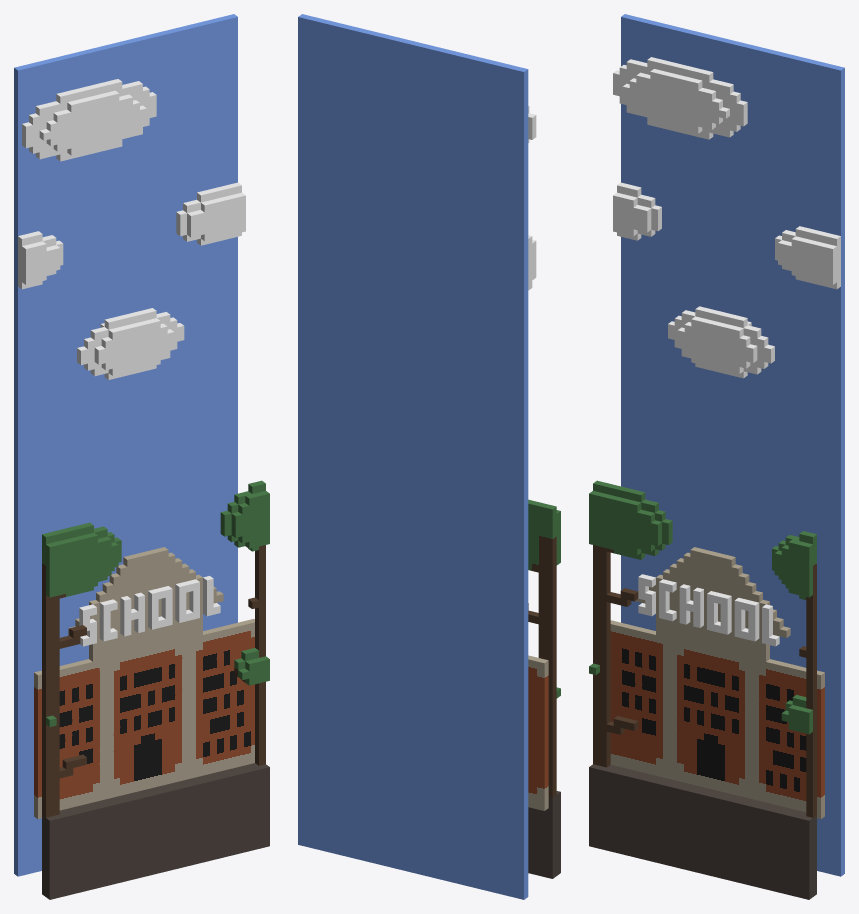
Rendered from scene_school.glb.
3 renders of one model, left to right at view 1: azimuth 30°, elevation 25°; view 2: azimuth 150°, elevation 25°; view 3: azimuth 330°, elevation 25°, orthographic. The views are drawn at different scales.
Visible parts, largest first — view 1: scene_school_43, scene_school_42, scene_school_41, scene_school_40; view 2: scene_school_43, scene_school_41, scene_school_42, scene_school_40; view 3: scene_school_43, scene_school_42, scene_school_41, scene_school_40.
Boxes of the visible parts, x1,y1,x2,y2 form: scene_school_43: (14,14,237,876); scene_school_42: (34,547,254,818); scene_school_41: (42,480,269,899); scene_school_40: (18,79,245,379); scene_school_43: (298,14,528,899); scene_school_41: (528,499,560,878); scene_school_42: (528,655,548,810); scene_school_40: (528,105,536,290); scene_school_43: (621,14,844,876); scene_school_42: (610,547,824,818); scene_school_41: (589,480,816,899); scene_school_40: (613,57,840,378).
Bounding box in the file's own units: 3.2 × 11.2 × 0.9.
Materials: 1 (1 with a texture image).
